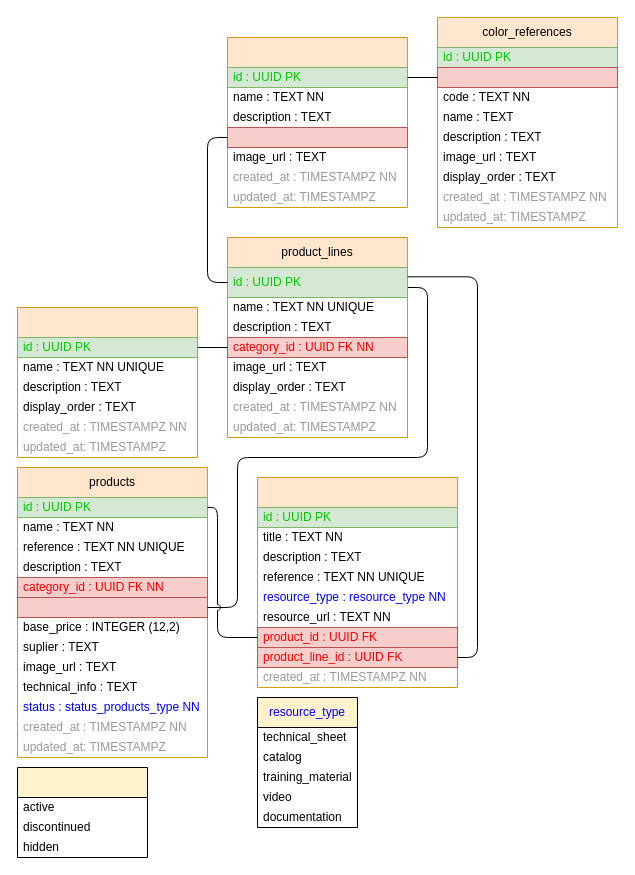
The diagram is 635 pixels wide and 875 high, and some of its shapes have lost their labels. The shapes that lost their labels are listed below. From the top down, each one's box as (x1, y1, x2, y2) in pixels, then its label:
(436, 66, 618, 88): color_chart_id : UUID FK NN
(226, 36, 408, 208): color_charts
(226, 126, 408, 148): product_line_id : UUID FK NN
(16, 306, 198, 458): product_categories
(256, 476, 458, 688): support_resources
(16, 596, 208, 618): product_line : UUID FK NN
(16, 766, 148, 858): status_products_type
